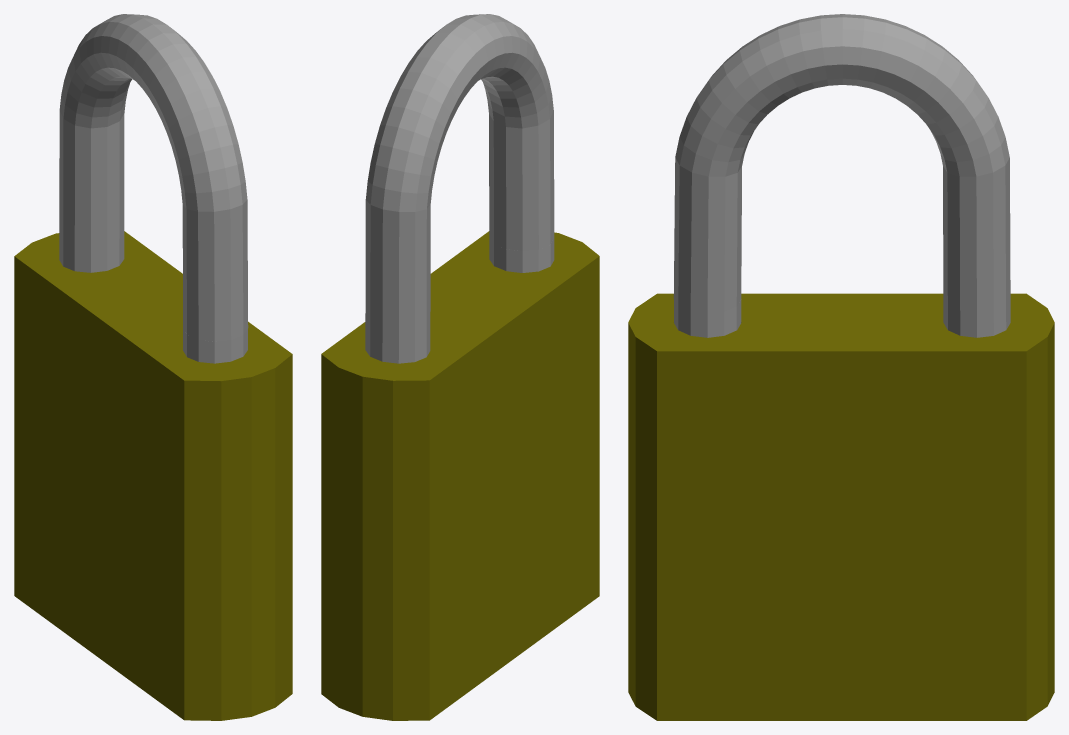
Rendered from padlock1.glb.
The picture shows the model from 3 angles, left to right: view 1: azimuth 30°, elevation 25°; view 2: azimuth 150°, elevation 25°; view 3: azimuth 270°, elevation 25°; orthographic projection. The views are drawn at different scales.
Visible parts, largest first — view 1: Cube, Torus; view 2: Cube, Torus; view 3: Cube, Torus.
Part boxes in pixels (<box>): Cube: <box>14,231,292,720</box>; Torus: <box>59,14,248,363</box>; Cube: <box>321,231,599,720</box>; Torus: <box>365,14,554,363</box>; Cube: <box>628,293,1054,720</box>; Torus: <box>673,14,1010,337</box>.
Bounding box in the file's own units: 0.6676 × 3.65 × 2.09.
Materials: 2 (1 with a texture image).
